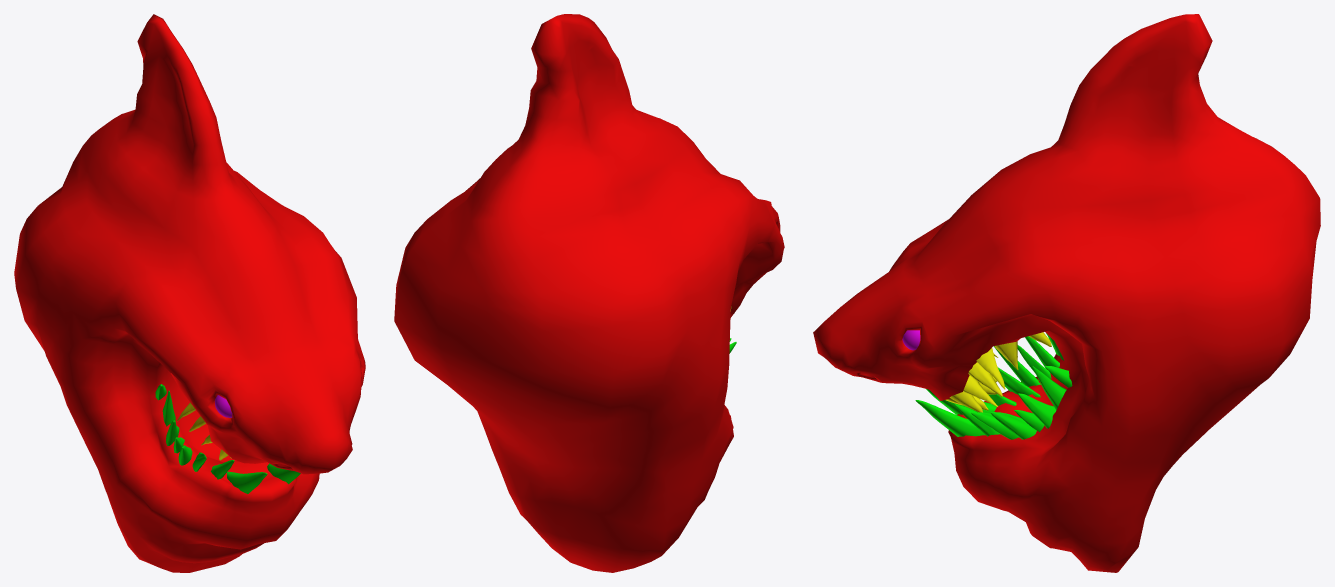
The model's file is shark_unity.fbx.
3 renders of one model, left to right at view 1: azimuth 30°, elevation 25°; view 2: azimuth 150°, elevation 25°; view 3: azimuth 270°, elevation 25°, orthographic. The views are drawn at different scales.
Parts seen in each view (by area): view 1: Cabeza_low; view 2: Cabeza_low; view 3: Cabeza_low.
Boxes of the visible parts, left/top/right/bottom form: Cabeza_low: left=14, top=14, right=365, bottom=572; Cabeza_low: left=394, top=14, right=784, bottom=572; Cabeza_low: left=813, top=14, right=1320, bottom=572.
Bounding box in the file's own units: 1.58 × 3.21 × 2.68.
